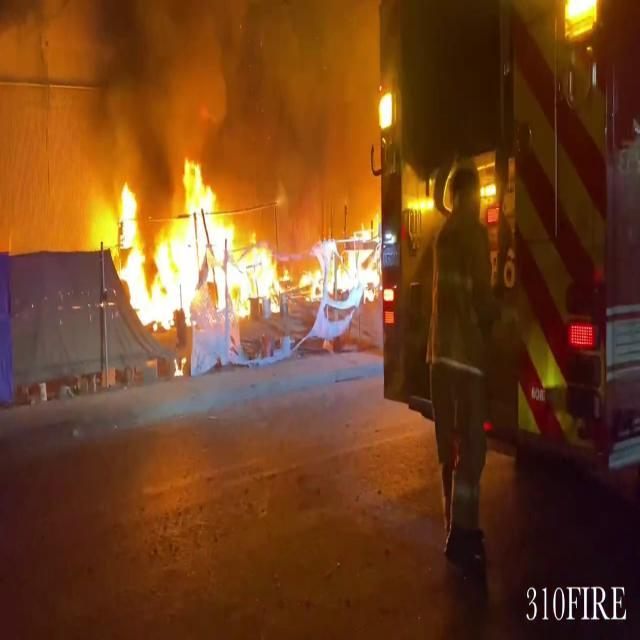Fire: (104, 154, 378, 358)
Smoke: (16, 0, 380, 194)
